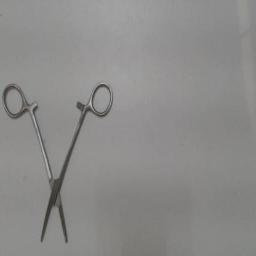Mayo Needle Holder: (0, 78, 118, 248)
